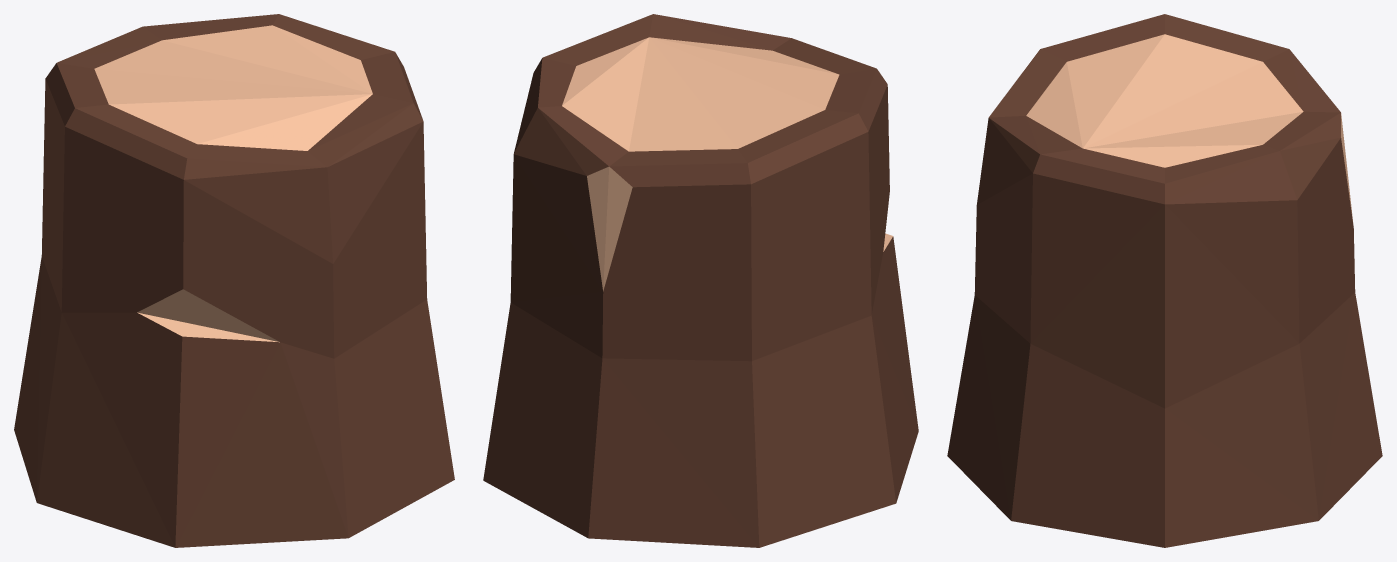
The model's file is TreeTrunk_1.fbx.
The picture shows the model from 3 angles, left to right: view 1: azimuth 30°, elevation 25°; view 2: azimuth 150°, elevation 25°; view 3: azimuth 270°, elevation 25°; orthographic projection. The views are drawn at different scales.
Parts seen in each view (by area): view 1: TreeTrunk_1; view 2: TreeTrunk_1; view 3: TreeTrunk_1.
Boxes of the visible parts, left/top/right/bottom form: TreeTrunk_1: left=14, top=14, right=454, bottom=547; TreeTrunk_1: left=483, top=14, right=918, bottom=547; TreeTrunk_1: left=947, top=14, right=1382, bottom=547.
Size of the model in its own units: 0.8299 by 0.7736 by 0.8299.
